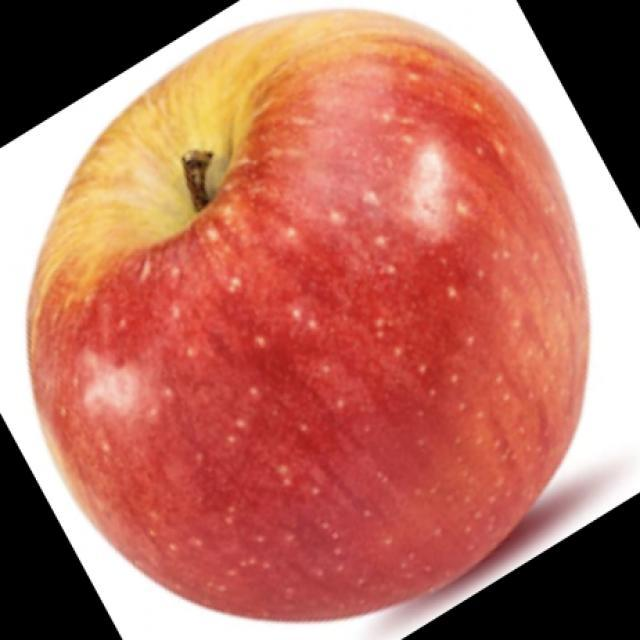Fresh Apple: (28, 0, 589, 627)
